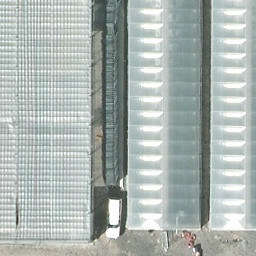car: (104, 198, 123, 239)
